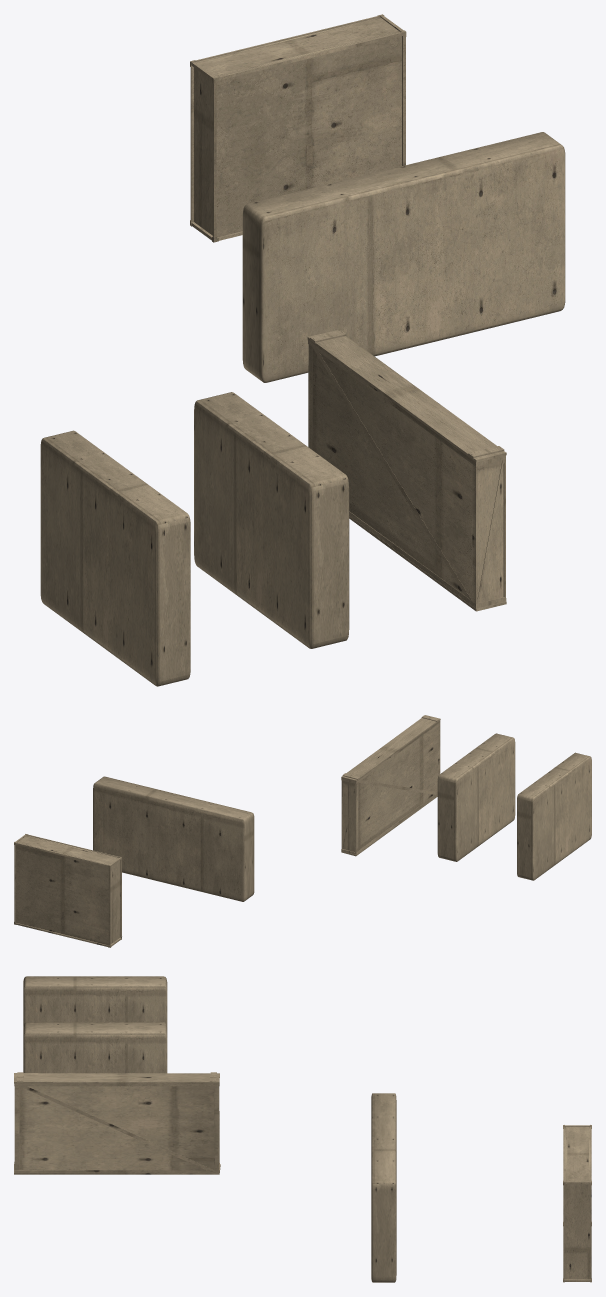
Rendered from Left_Wall.fbx.
3 views of the same model, one above another, from view 1: azimuth 30°, elevation 25°; view 2: azimuth 150°, elevation 25°; view 3: azimuth 270°, elevation 25° (orthographic). The views are drawn at different scales.
Visible parts, largest first — view 1: Left_Wall; view 2: Left_Wall; view 3: Left_Wall.
Part boxes in pixels (x1,y1,x2,y2): Left_Wall: (40,14,565,686); Left_Wall: (14,715,591,947); Left_Wall: (14,976,591,1282).
Bounding box in the file's own units: 1304 × 298 × 1540.
Materials: 1 (1 with a texture image).
